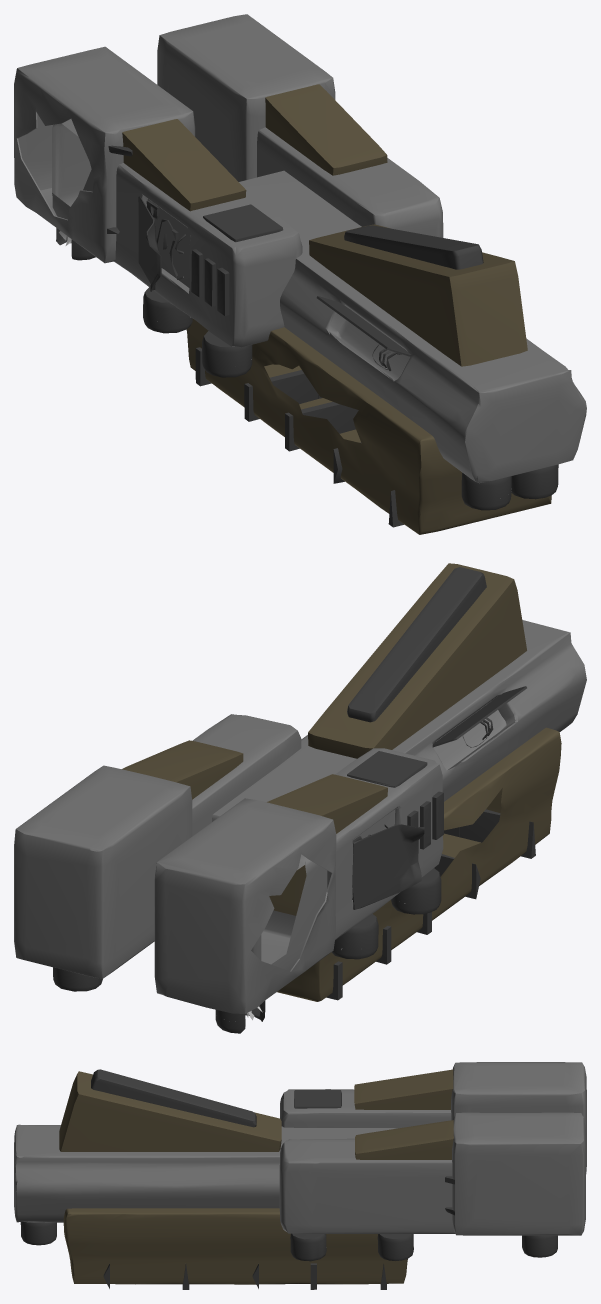
File: Crawler.fbx
3 views of the same model, one above another, from view 1: azimuth 30°, elevation 25°; view 2: azimuth 150°, elevation 25°; view 3: azimuth 270°, elevation 25° (orthographic). The views are drawn at different scales.
Parts seen in each view (by area): view 1: Crawler23235; view 2: Crawler23235; view 3: Crawler23235.
Part boxes in pixels (left/top/right/bottom): Crawler23235: left=14, top=14, right=586, bottom=534; Crawler23235: left=14, top=563, right=586, bottom=1033; Crawler23235: left=14, top=1062, right=586, bottom=1289.
Size of the model in its own units: 1008 by 997 by 2716.
